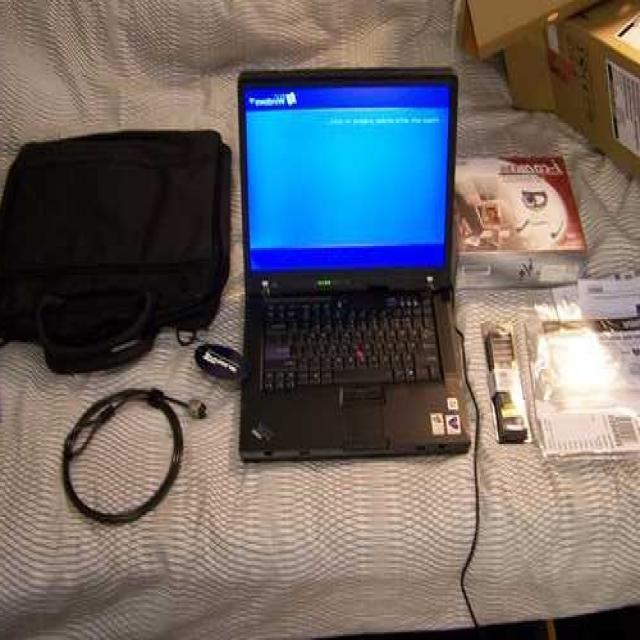laptop: (235, 77, 466, 413)
